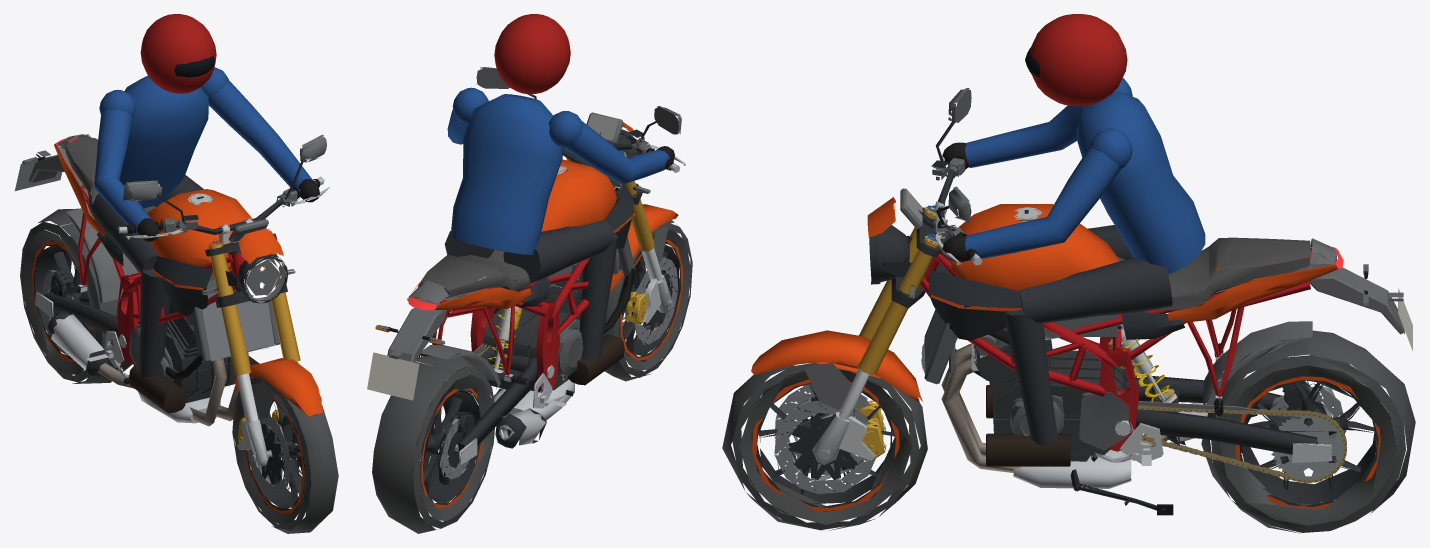
Rendered from vb_street.glb.
The picture shows the model from 3 angles, left to right: view 1: azimuth 30°, elevation 25°; view 2: azimuth 150°, elevation 25°; view 3: azimuth 270°, elevation 25°; orthographic projection. The views are drawn at different scales.
Parts seen in each view (by area): view 1: body, rider_torso, fork, wheel_front, wheel_rear, rider_legs, rider_head; view 2: body, rider_torso, wheel_rear, rider_legs, fork, wheel_front, rider_head; view 3: body, wheel_rear, rider_torso, wheel_front, fork, rider_legs, rider_head.
Part boxes in pixels (bbox=[...]): body: bbox=[15, 134, 280, 426]; rider_torso: bbox=[94, 67, 319, 241]; fork: bbox=[118, 134, 329, 467]; wheel_front: bbox=[232, 376, 338, 533]; wheel_rear: bbox=[20, 208, 132, 383]; rider_legs: bbox=[91, 175, 259, 413]; rider_head: bbox=[140, 14, 216, 93]; body: bbox=[367, 159, 635, 465]; rider_torso: bbox=[447, 87, 674, 254]; wheel_rear: bbox=[372, 354, 494, 533]; rider_legs: bbox=[444, 220, 624, 385]; fork: bbox=[476, 67, 685, 324]; wheel_front: bbox=[603, 220, 692, 381]; rider_head: bbox=[494, 14, 570, 94]; body: bbox=[920, 204, 1412, 515]; wheel_rear: bbox=[1201, 330, 1415, 533]; rider_torso: bbox=[942, 78, 1205, 273]; wheel_front: bbox=[722, 363, 927, 530]; fork: bbox=[751, 88, 982, 464]; rider_legs: bbox=[986, 225, 1172, 466]; rider_head: bbox=[1025, 14, 1127, 106].
Size of the model in its own units: 0.832 by 1.68 by 2.05.
